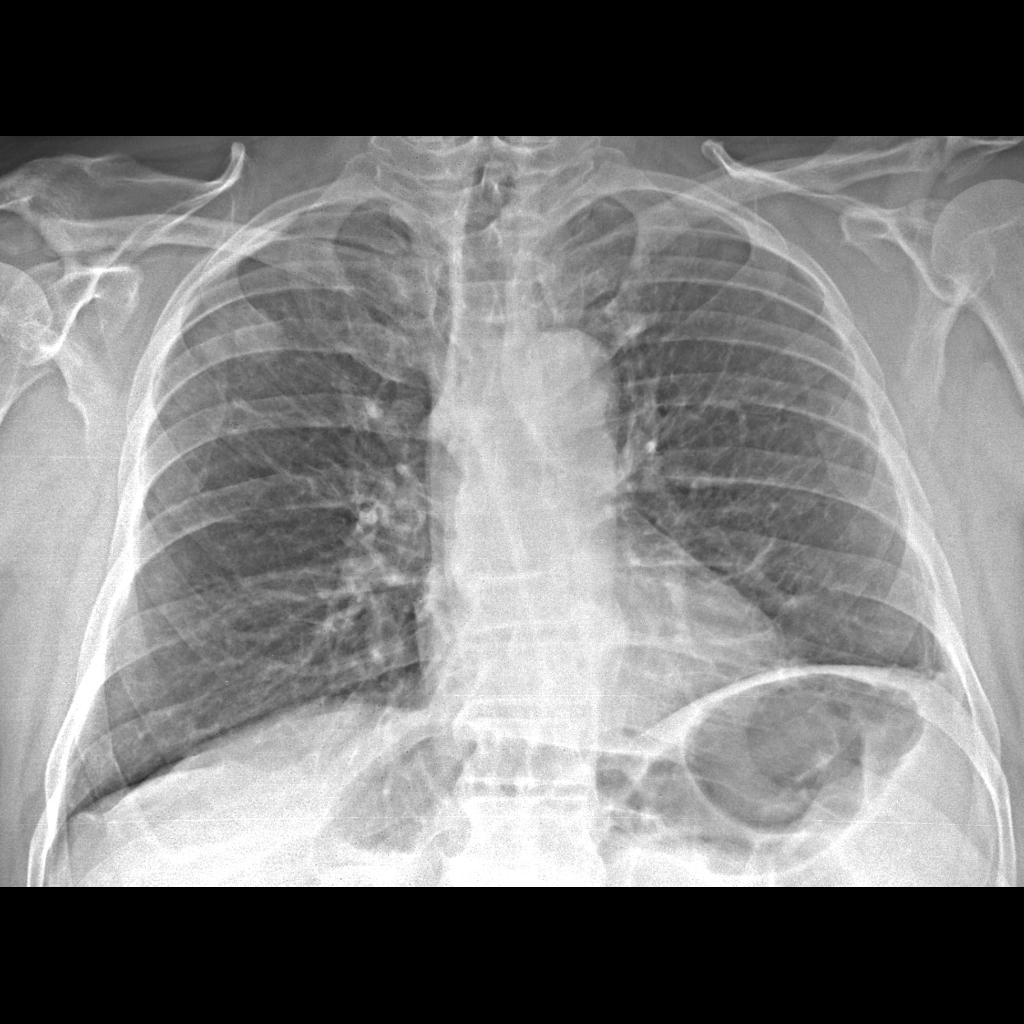Nodule: (196, 306, 285, 396)
